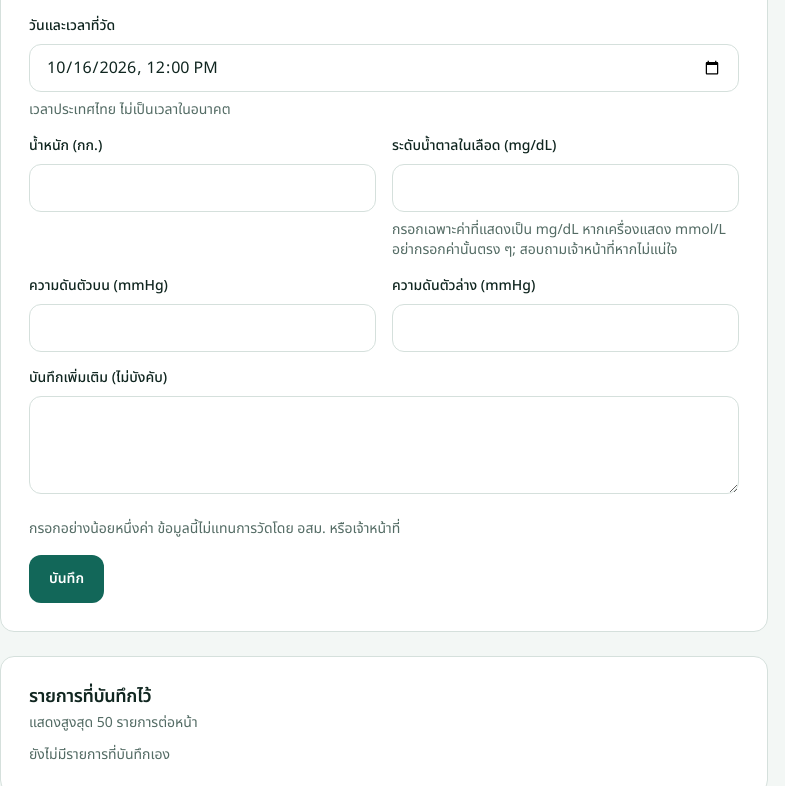
it: PatientSelfMeasurementWorkspace unknown outcome recovery › renders session expiry with sign-in and keeps forbidden access copy
(page scrolled)
Click the submit button at (66, 579), box [29, 555, 104, 603]
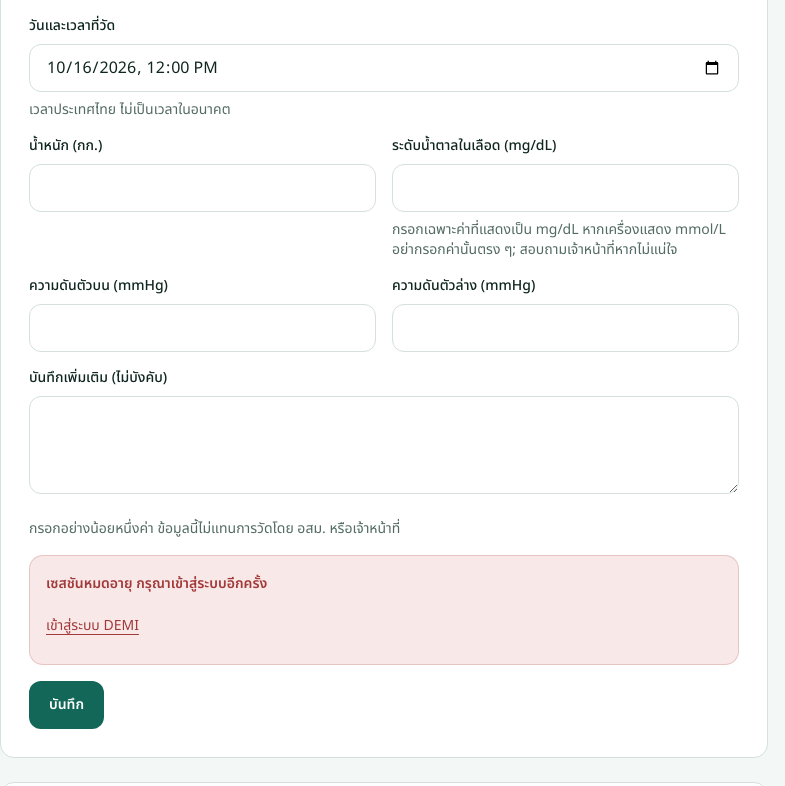
Result: the message "เซสชันหมดอายุ กรุณาเข้าสู่ระบบอีกครั้ง เข้าสู่ระบบ DEMI" is shown at [29, 555, 739, 665]
Click the submit button at (66, 705), box [29, 681, 104, 729]
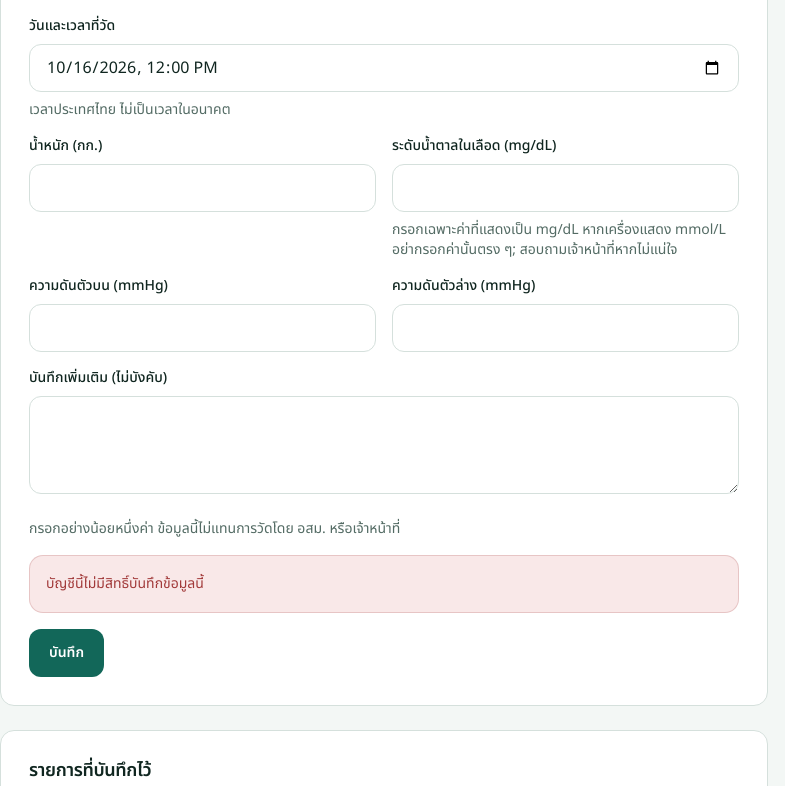
Result: the message "บัญชีนี้ไม่มีสิทธิ์บันทึกข้อมูลนี้" is shown at [29, 555, 739, 613]
Result: the link "เข้าสู่ระบบ DEMI" is gone
